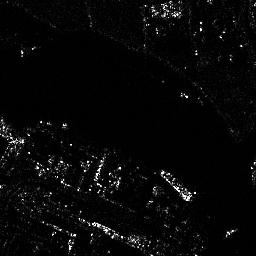ship: (158, 169, 193, 202)
